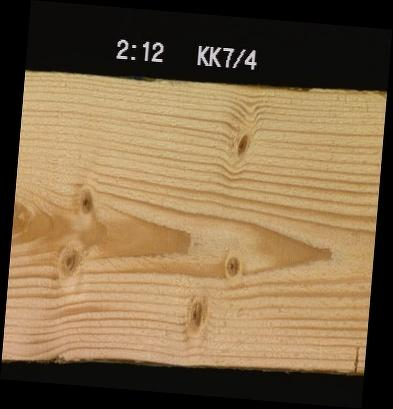sound_knot: (55, 244, 78, 277), (185, 292, 205, 329), (232, 128, 248, 159), (221, 253, 240, 279), (76, 183, 93, 211)
